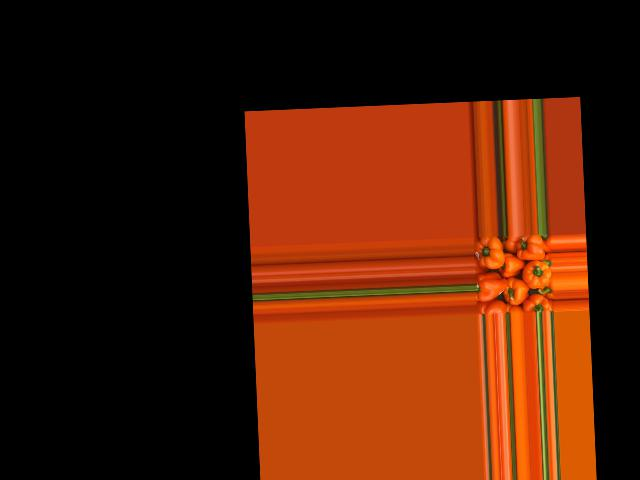bell_pepper: (475, 300, 506, 314)
